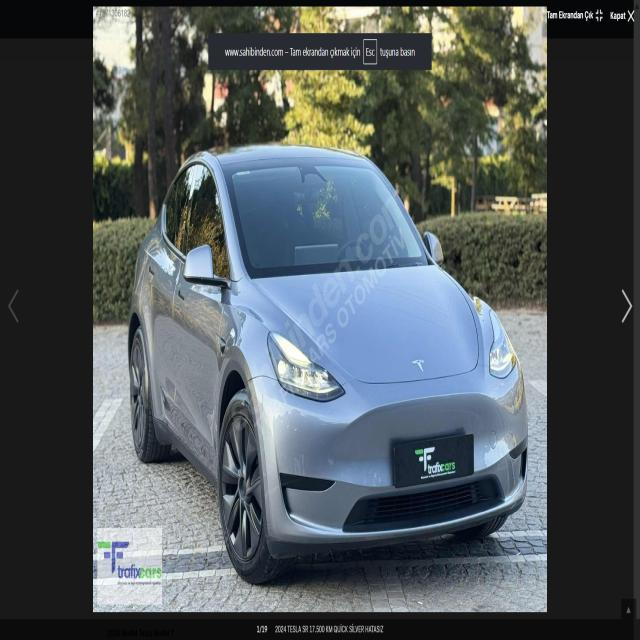tesla: (402, 350, 442, 384)
